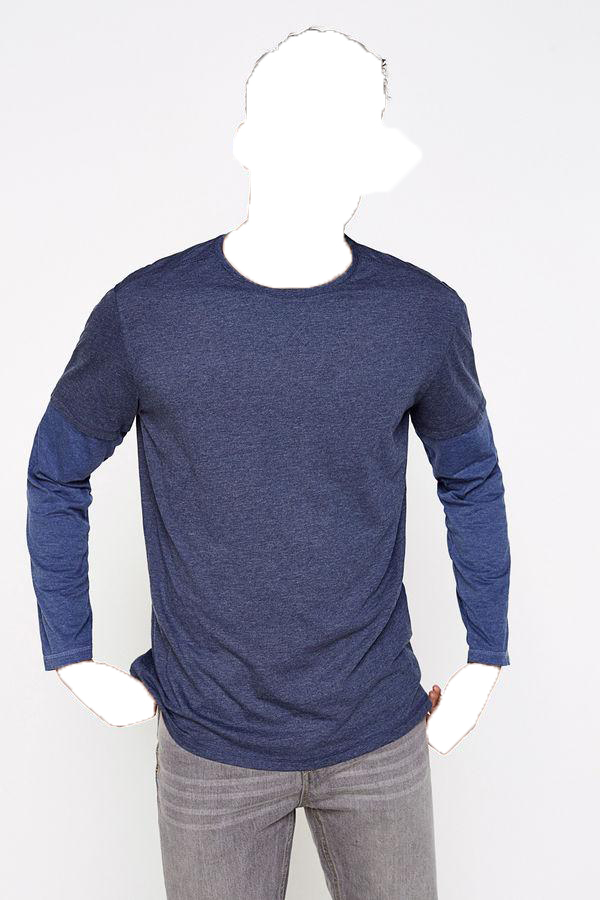teeshirt: (24, 232, 522, 699)
